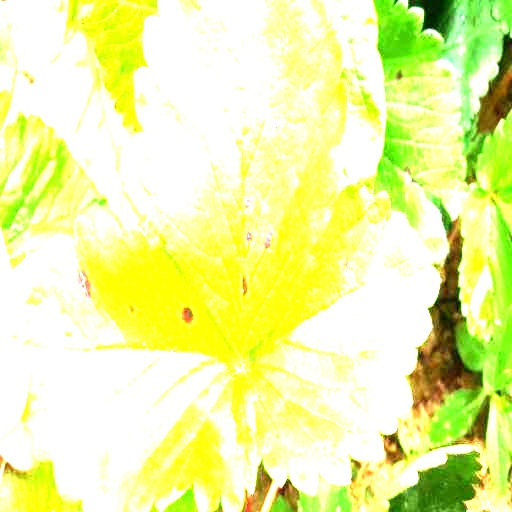Leaf Spot: (130, 0, 351, 360), (11, 208, 257, 511), (235, 178, 441, 497), (371, 0, 467, 266)
